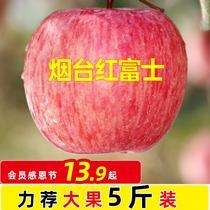apple: (20, 5, 189, 153)
